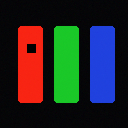1 square: (27, 44, 35, 52)
